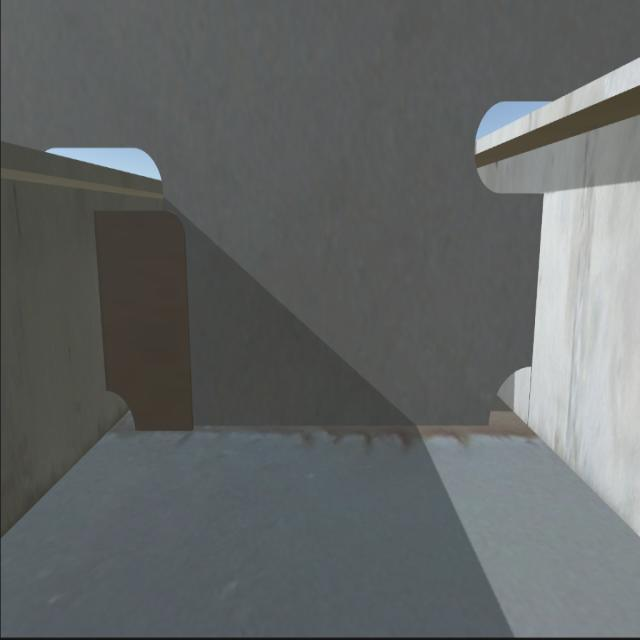fillet_hole: (488, 358, 531, 427), (104, 388, 136, 437)
fillet_yong_jeop_jang: (141, 419, 489, 426)
longi_yong_jeop_jang: (93, 216, 111, 382), (530, 198, 543, 366)
plate_CP05: (96, 214, 187, 438)
